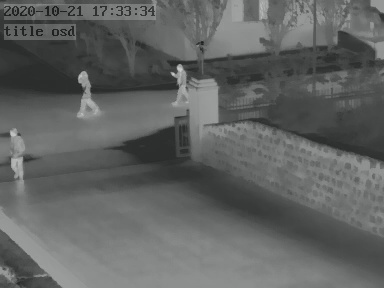person: (5, 125, 26, 179), (77, 71, 100, 118), (176, 63, 189, 102)
